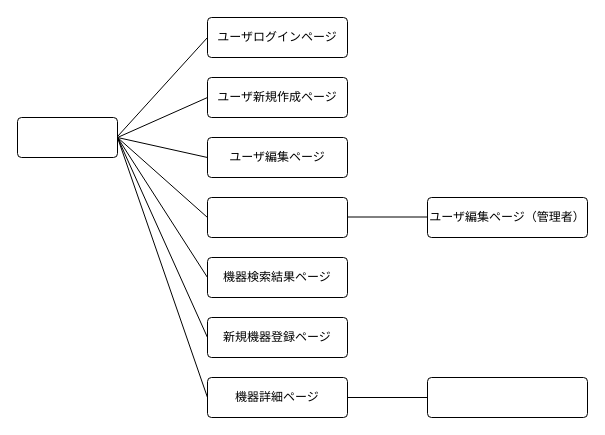
The diagram is 605 pixels wide and 435 high, and some of its shapes have lost their labels. The shapes that lost their labels are listed below. From the top down, each one's centre as x and y in pixels, then its label:
At [67,137]: "一覧ページ".
At [277,217]: "ユーザ一覧ページ".
At [507,397]: "機器編集ページ".
